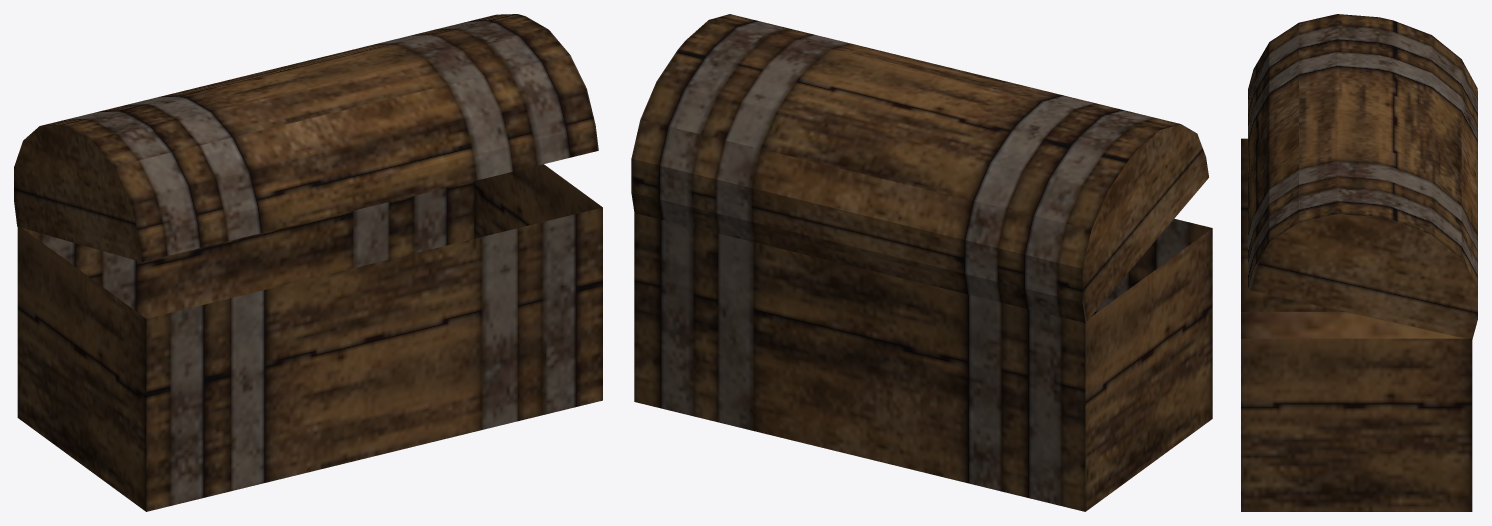
Rendered from Chest.fbx.
The picture shows the model from 3 angles, left to right: view 1: azimuth 30°, elevation 25°; view 2: azimuth 150°, elevation 25°; view 3: azimuth 270°, elevation 25°; orthographic projection. The views are drawn at different scales.
Visible parts, largest first — view 1: ChestBase, ChestLid; view 2: ChestLid, ChestBase; view 3: ChestLid, ChestBase.
Part boxes in pixels (<box>): ChestBase: <box>17,164,602,511</box>; ChestLid: <box>14,14,598,261</box>; ChestLid: <box>631,14,1208,322</box>; ChestBase: <box>634,213,1212,511</box>; ChestLid: <box>1248,14,1477,339</box>; ChestBase: <box>1241,138,1472,511</box>.
Size of the model in its own units: 495 by 344 by 248.
